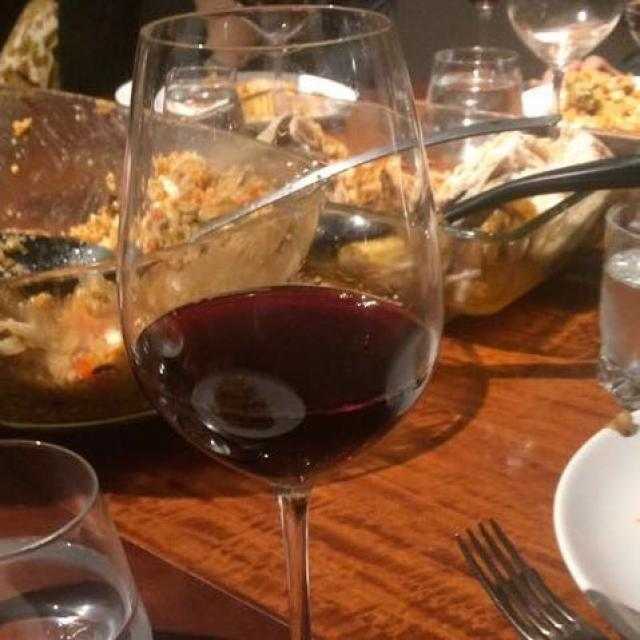wine: (160, 272, 426, 475)
